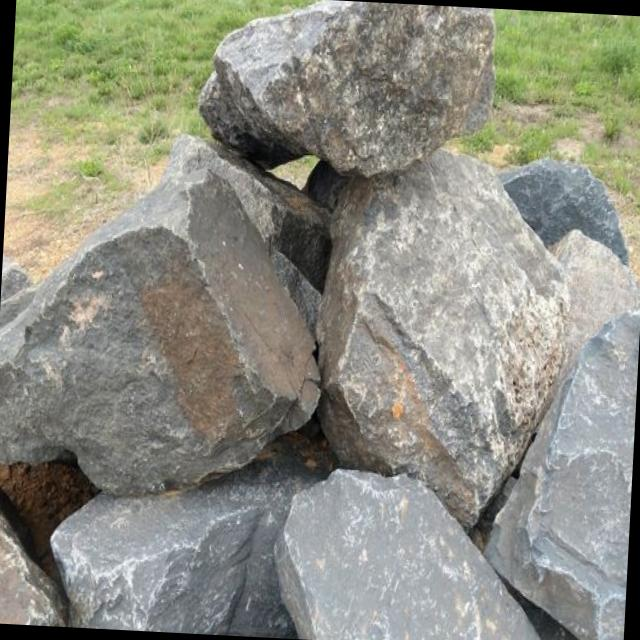grass: (3, 0, 313, 277), (451, 9, 640, 282)
rocks: (0, 0, 640, 640)
stone: (0, 138, 318, 494), (318, 151, 569, 525), (198, 0, 494, 176), (51, 453, 325, 639), (487, 308, 640, 640), (276, 471, 541, 640), (548, 229, 639, 377), (500, 159, 626, 263), (0, 512, 69, 627)
